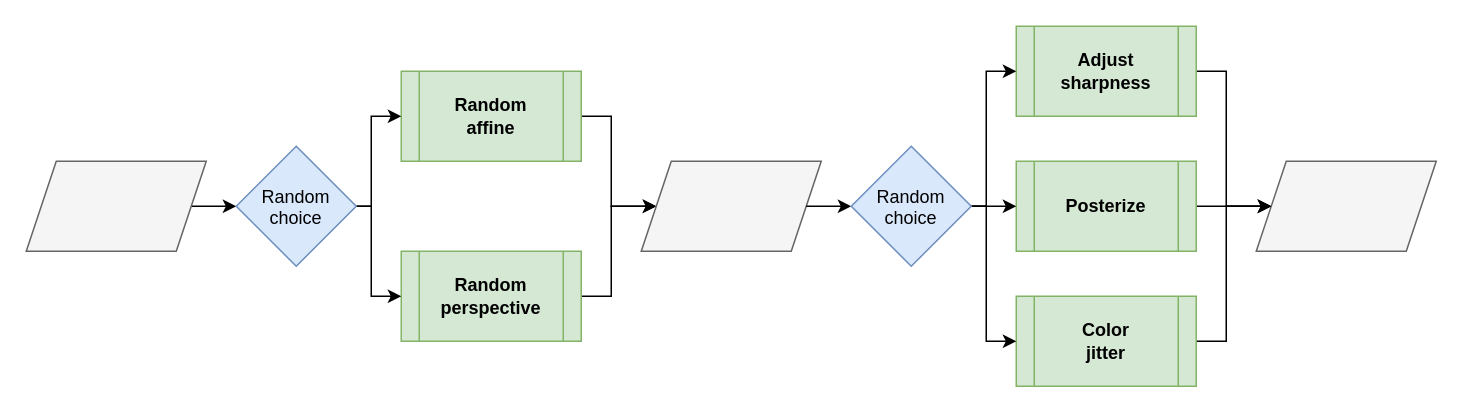
The diagram is 1463 pixels wide and 413 high, and some of its shapes have lost their labels. Each missing label, with the centre of its shape:
Geometric transformed image: the point at 730,205
Input image: the point at 115,205
Transformed image: the point at 1345,205
